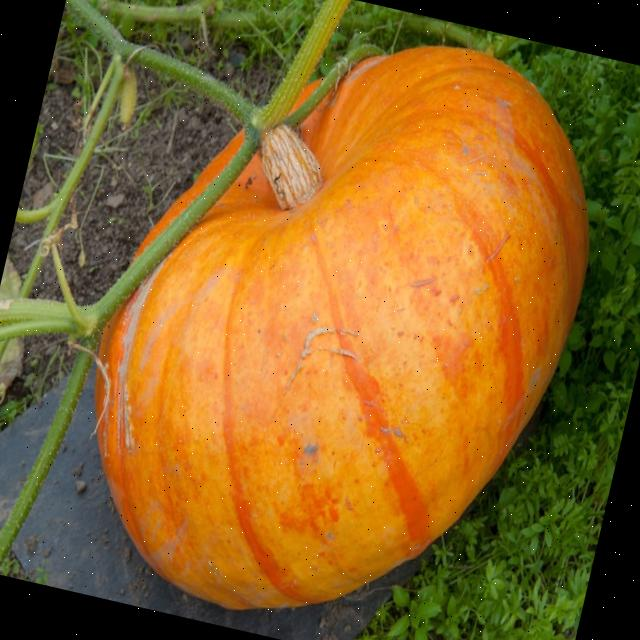pumpkin: (96, 47, 588, 608), (139, 133, 241, 251), (260, 123, 323, 209), (299, 84, 314, 101)
